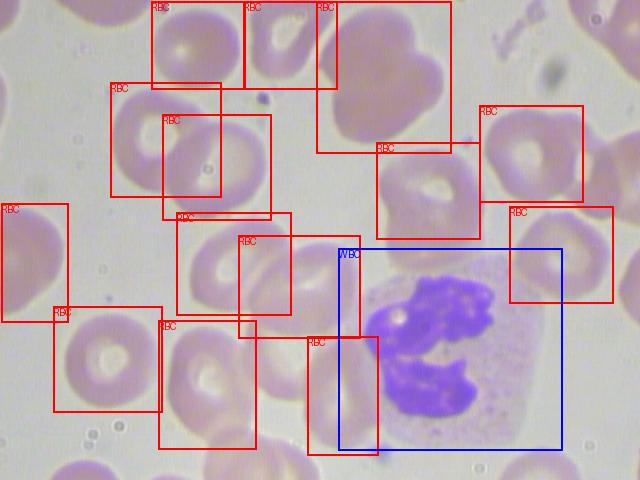RBC: (316, 1, 451, 153), (110, 82, 221, 197), (158, 320, 256, 449), (238, 235, 360, 338), (176, 212, 291, 315), (53, 306, 162, 412), (162, 114, 271, 220), (509, 206, 613, 303), (479, 105, 583, 202), (376, 142, 480, 239), (307, 336, 378, 455), (151, 1, 245, 89), (243, 1, 337, 89), (1, 203, 68, 322)
WBC: (338, 248, 562, 450)
